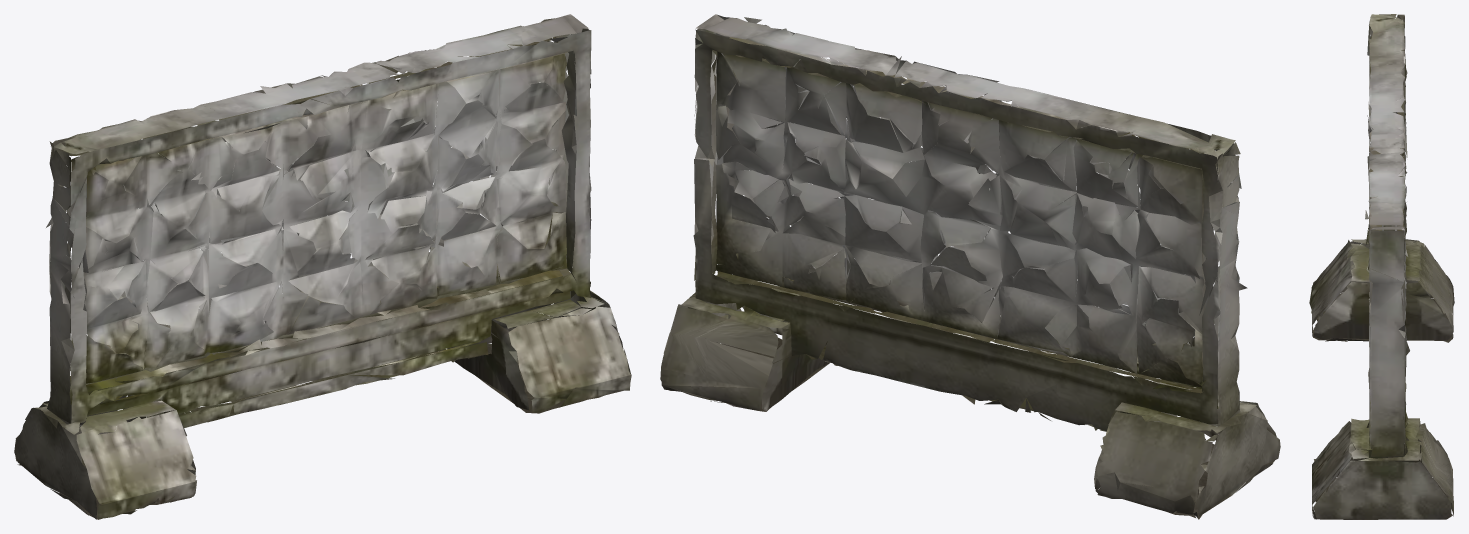
Rendered from fence_po2_b.glb.
3 renders of one model, left to right at view 1: azimuth 30°, elevation 25°; view 2: azimuth 150°, elevation 25°; view 3: azimuth 270°, elevation 25°, orthographic. The views are drawn at different scales.
Visible parts, largest first — view 1: fence_po2_b; view 2: fence_po2_b; view 3: fence_po2_b.
Part boxes in pixels (left/top/right/bottom): fence_po2_b: left=14, top=14, right=631, bottom=519; fence_po2_b: left=660, top=14, right=1280, bottom=519; fence_po2_b: left=1309, top=14, right=1454, bottom=519.
Size of the model in its own units: 1.91 by 1.17 by 0.5256.
Materials: 1 (1 with a texture image).
